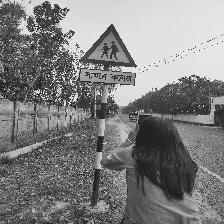College-in-front: (78, 25, 154, 99)
